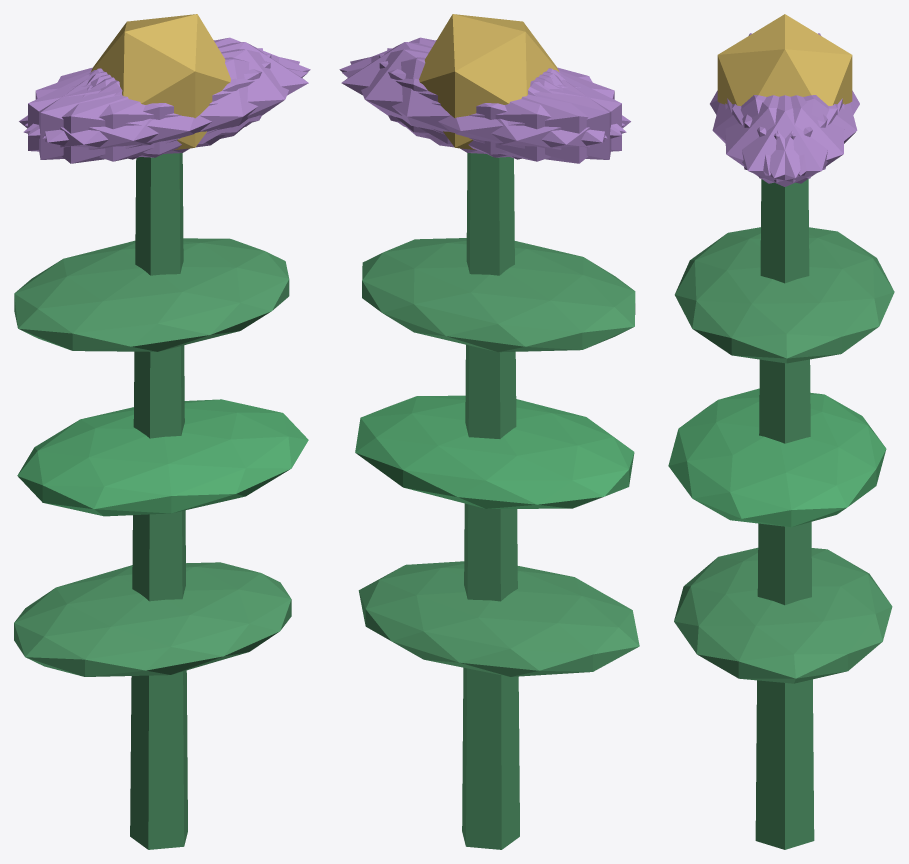
The model's file is alternanthera-bettzickiana.glb.
The picture shows the model from 3 angles, left to right: view 1: azimuth 30°, elevation 25°; view 2: azimuth 150°, elevation 25°; view 3: azimuth 270°, elevation 25°; orthographic projection.
Parts seen in each view (by area): view 1: stem, leaf1, leaf2, leaf0, center, petal1, petal6, petal2, petal5, petal7, petal0, petal4 (+2 smaller); view 2: stem, leaf2, leaf0, leaf1, center, petal8, petal3, petal7, petal4, petal2, petal0, petal5 (+2 smaller); view 3: stem, leaf2, leaf1, leaf0, center, petal0, petal5, petal4, petal8, petal1.
Boxes of the visible parts, bbox=[...] form: stem: bbox=[130, 153, 187, 849]; leaf1: bbox=[17, 399, 308, 516]; leaf2: bbox=[14, 238, 289, 351]; leaf0: bbox=[14, 562, 291, 676]; center: bbox=[91, 14, 230, 150]; petal1: bbox=[23, 57, 307, 161]; petal6: bbox=[19, 70, 224, 163]; petal2: bbox=[39, 48, 262, 159]; petal5: bbox=[43, 49, 299, 154]; petal7: bbox=[28, 54, 271, 157]; petal0: bbox=[90, 42, 308, 144]; petal4: bbox=[25, 37, 310, 135]; stem: bbox=[462, 153, 519, 849]; leaf2: bbox=[362, 238, 635, 352]; leaf0: bbox=[358, 561, 639, 676]; leaf1: bbox=[355, 395, 634, 508]; center: bbox=[419, 14, 559, 150]; petal8: bbox=[342, 57, 626, 161]; petal3: bbox=[425, 70, 630, 163]; petal7: bbox=[387, 48, 611, 159]; petal4: bbox=[350, 49, 607, 154]; petal2: bbox=[379, 54, 621, 157]; petal0: bbox=[341, 42, 559, 144]; petal5: bbox=[339, 37, 625, 135]; stem: bbox=[755, 179, 814, 849]; leaf2: bbox=[674, 227, 894, 363]; leaf1: bbox=[668, 388, 886, 527]; leaf0: bbox=[674, 547, 892, 683]; center: bbox=[717, 14, 852, 105]; petal0: bbox=[727, 95, 842, 186]; petal5: bbox=[725, 95, 837, 183]; petal4: bbox=[732, 95, 844, 183]; petal8: bbox=[742, 95, 857, 175]; petal1: bbox=[712, 95, 827, 175].
Size of the model in its own units: 0.1498 by 0.4038 by 0.1028.
